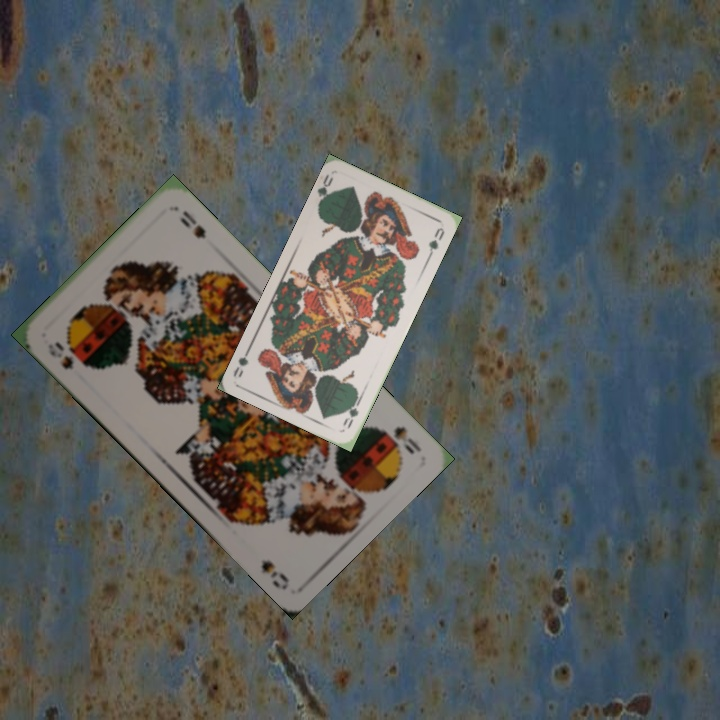GO: (339, 392, 364, 431), (313, 170, 336, 210)
SO: (389, 422, 424, 457), (43, 337, 76, 373)
